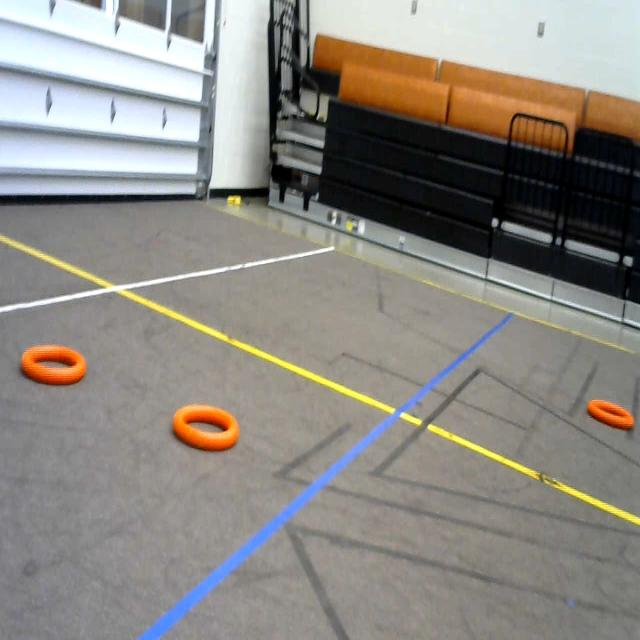note: (170, 394, 246, 462), (21, 341, 93, 394), (585, 380, 638, 446)
